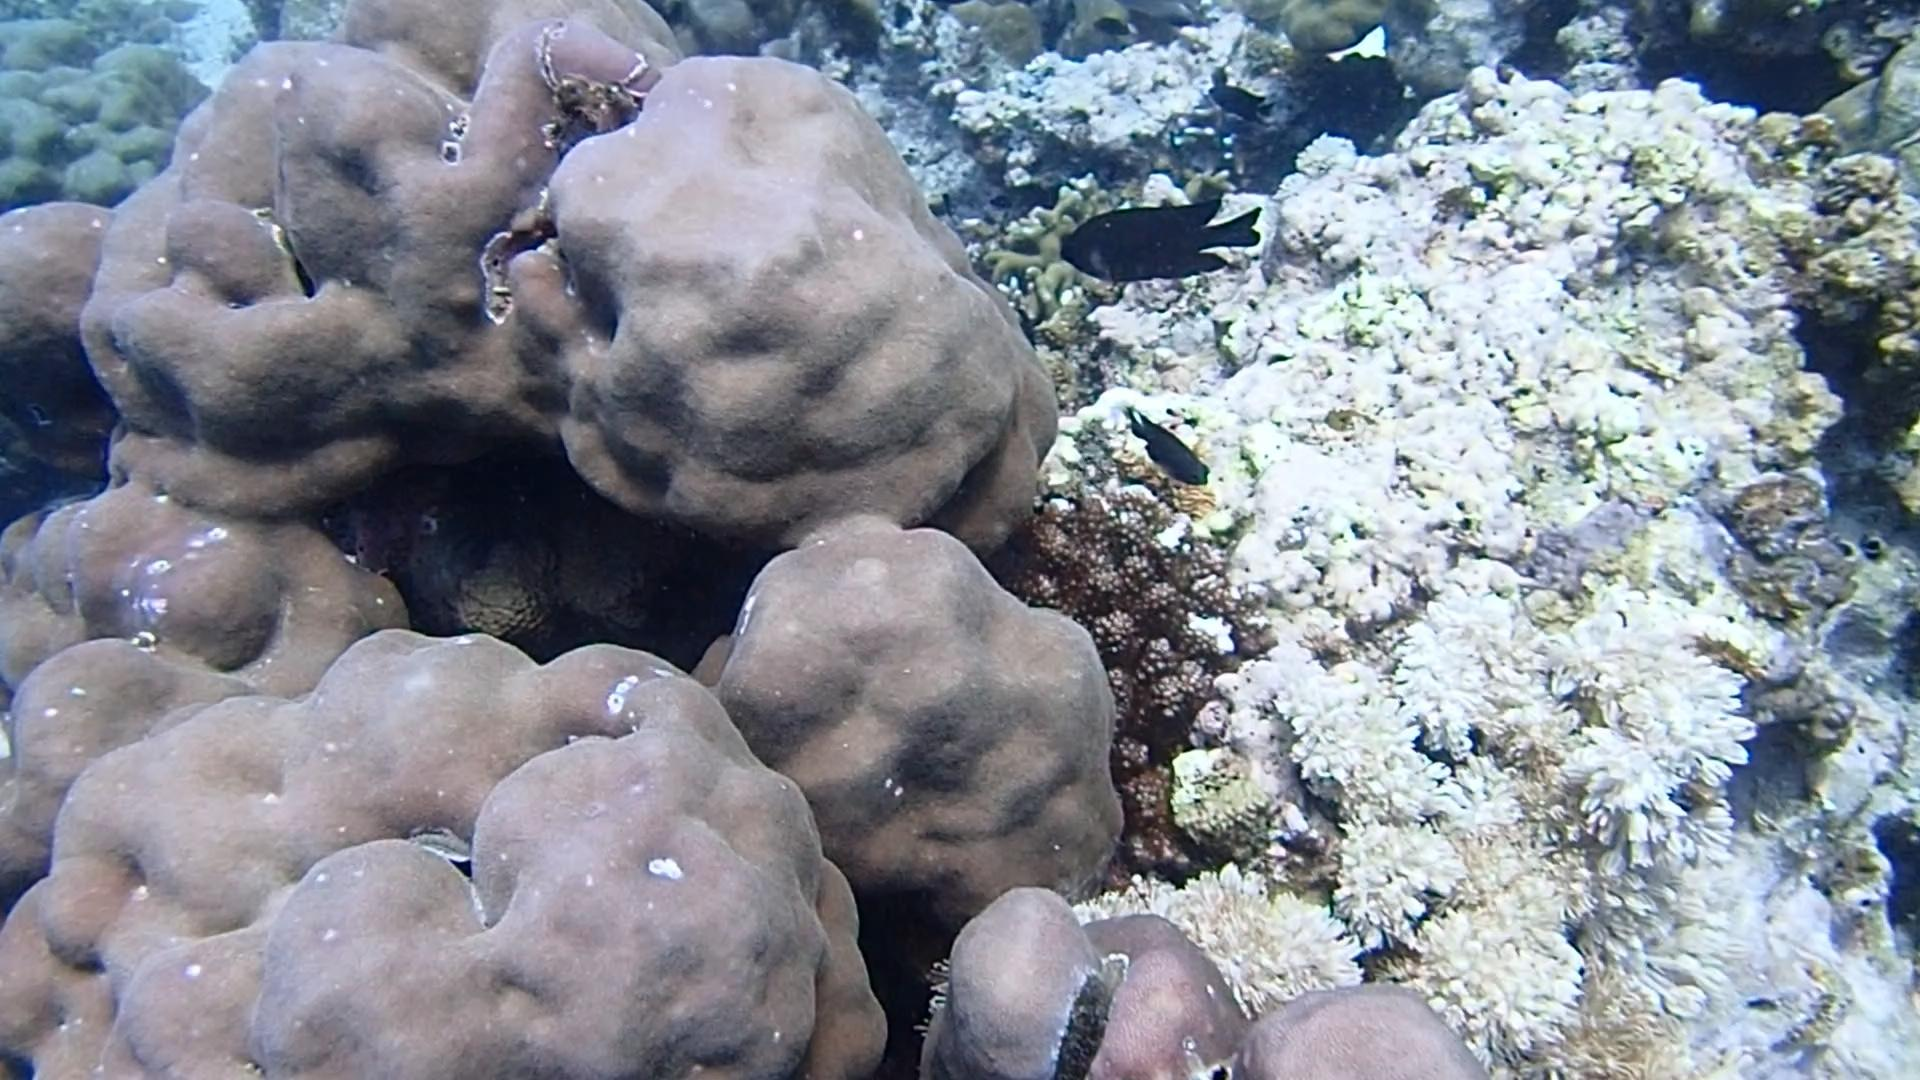Dark Fish: (1052, 185, 1270, 297), (1122, 400, 1221, 501), (1201, 76, 1286, 129)
